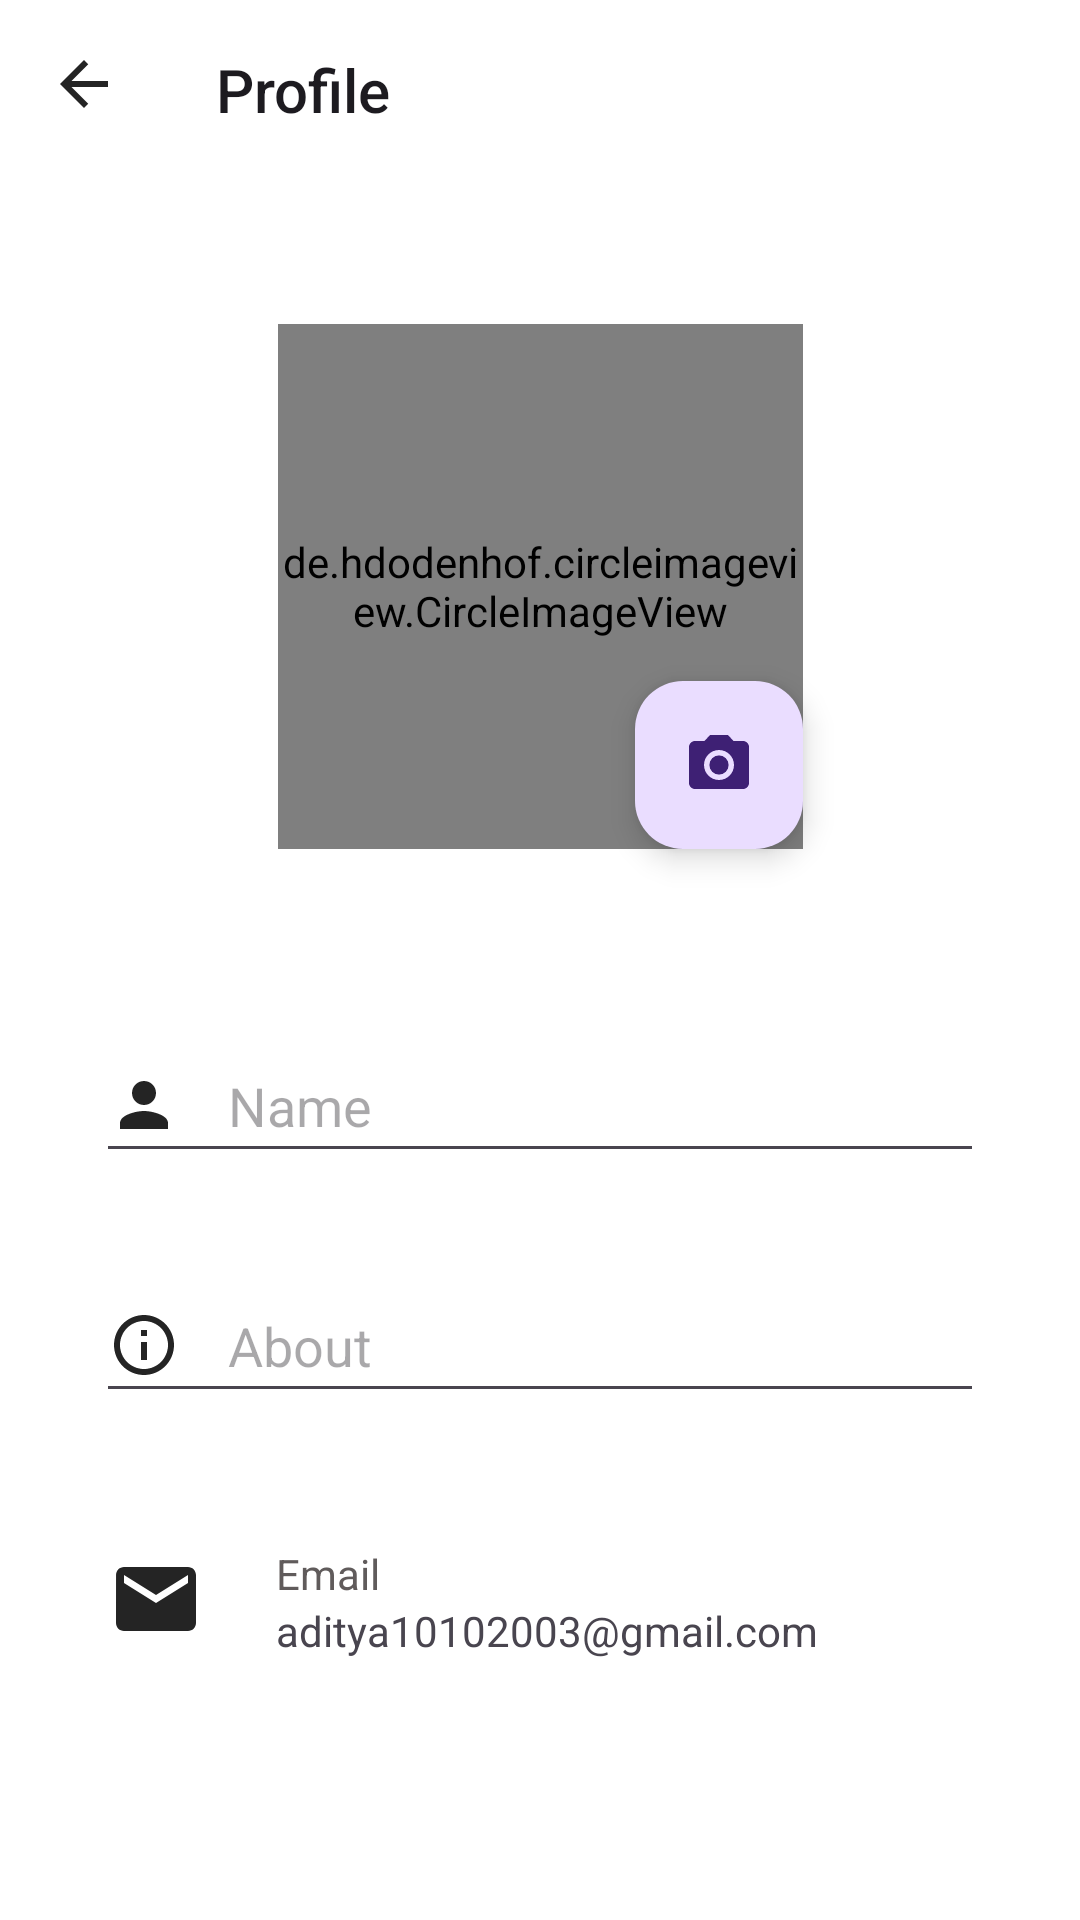

Where to tap for icons on this 1080×1920 app screen, as [x,y]:
Open Camera: [719,765]
